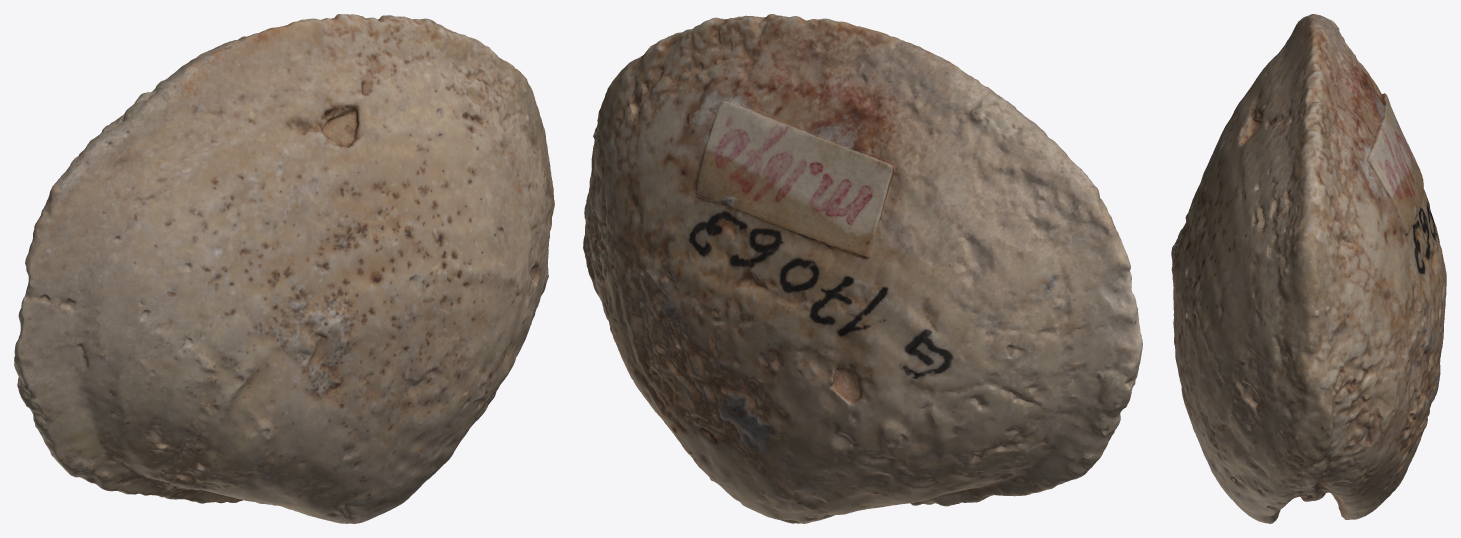
Rendered from EWS0012656.glb.
3 views of the same model, side by side, from view 1: azimuth 30°, elevation 25°; view 2: azimuth 150°, elevation 25°; view 3: azimuth 270°, elevation 25° (orthographic). The views are drawn at different scales.
Visible parts, largest first — view 1: input; view 2: input; view 3: input.
Boxes of the visible parts, box(x1,y1,x2,y2) form: input: box(14, 14, 554, 523); input: box(583, 14, 1142, 523); input: box(1171, 14, 1446, 523).
Size of the model in its own units: 0.029 by 0.0251 by 0.0138.
Materials: 1 (1 with a texture image).
